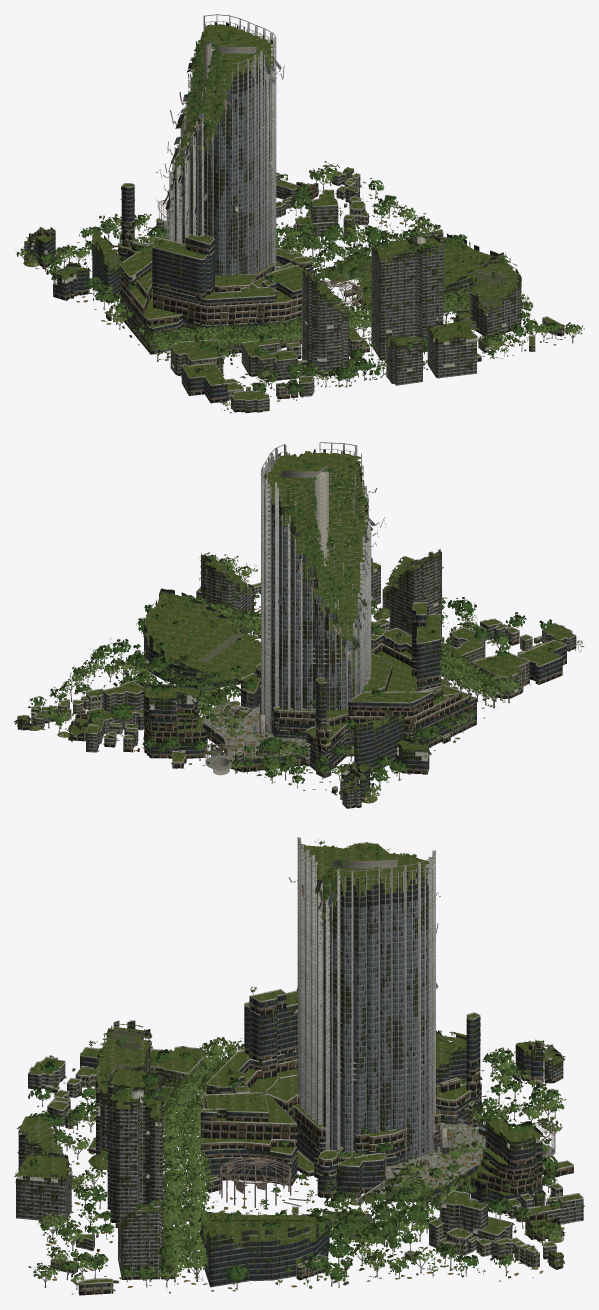
File: near.glb
3 views of the same model, one above another, from view 1: azimuth 30°, elevation 25°; view 2: azimuth 150°, elevation 25°; view 3: azimuth 270°, elevation 25° (orthographic). The views are drawn at different scales.
Parts seen in each view (by area): view 1: fac, tower, top, foliage_streets, foliage_high, foliage_roofs, conc, foliage_lots, foliage_keyaki, foliage_garden, bark, interior (+3 smaller); view 2: fac, top, tower, foliage_high, foliage_streets, foliage_roofs, conc, foliage_lots, tconc, foliage_keyaki, decal_ground, pave (+5 smaller); view 3: fac, tower, top, foliage_streets, foliage_keyaki, foliage_lots, conc, foliage_roofs, foliage_high, foliage_garden, decal_ground, metal (+5 smaller).
Part boxes in pixels (x1=…): fac: x1=24, y1=169, x2=564, y2=413; tower: x1=163, y1=14, x2=281, y2=276; top: x1=23, y1=24, x2=561, y2=400; foliage_streets: x1=15, y1=161, x2=584, y2=378; foliage_high: x1=91, y1=30, x2=510, y2=349; foliage_roofs: x1=29, y1=167, x2=558, y2=407; conc: x1=25, y1=171, x2=562, y2=401; foliage_lots: x1=55, y1=178, x2=553, y2=410; foliage_keyaki: x1=142, y1=284, x2=474, y2=360; foliage_garden: x1=282, y1=226, x2=408, y2=280; bark: x1=19, y1=60, x2=578, y2=410; interior: x1=27, y1=169, x2=520, y2=371; fac: x1=14, y1=549, x2=576, y2=808; top: x1=17, y1=451, x2=574, y2=803; tower: x1=261, y1=442, x2=376, y2=731; foliage_high: x1=143, y1=453, x2=443, y2=756; foliage_streets: x1=35, y1=554, x2=510, y2=797; foliage_roofs: x1=18, y1=555, x2=572, y2=790; conc: x1=31, y1=582, x2=576, y2=802; foliage_lots: x1=28, y1=563, x2=582, y2=773; tconc: x1=264, y1=458, x2=374, y2=664; foliage_keyaki: x1=184, y1=594, x2=521, y2=707; decal_ground: x1=31, y1=537, x2=584, y2=799; pave: x1=203, y1=702, x2=305, y2=769; fac: x1=14, y1=994, x2=583, y2=1295; tower: x1=297, y1=837, x2=438, y2=1160; top: x1=16, y1=843, x2=581, y2=1283; foliage_streets: x1=28, y1=1047, x2=565, y2=1284; foliage_keyaki: x1=155, y1=1037, x2=244, y2=1278; foliage_lots: x1=28, y1=1055, x2=558, y2=1293; conc: x1=28, y1=989, x2=583, y2=1284; foliage_roofs: x1=15, y1=1033, x2=584, y2=1289; foliage_high: x1=97, y1=840, x2=542, y2=1252; foliage_garden: x1=309, y1=1172, x2=416, y2=1254; decal_ground: x1=19, y1=869, x2=567, y2=1294; metal: x1=170, y1=838, x2=558, y2=1280.
Bounding box in the file's own units: 382 × 260 × 421.
17 materials, 15 textured.
